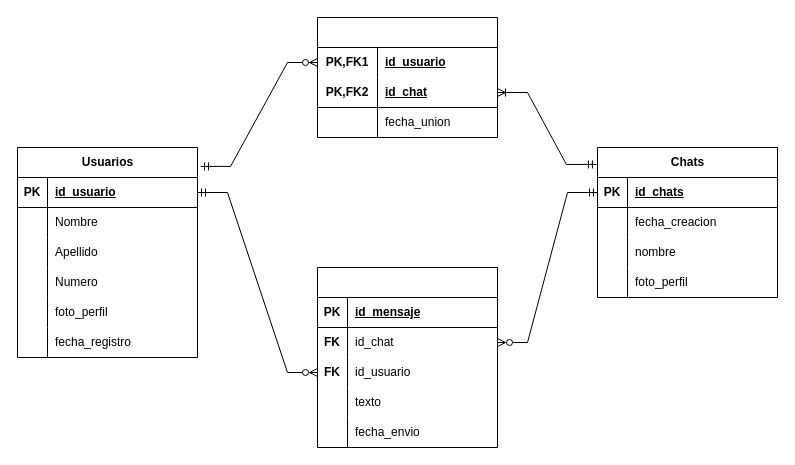
Some shapes in this 795 by 465 pixel diagram are drawn without their labels. Here are the shapes that lost their labels. From the top down, the box of each, then its label:
(316, 16, 498, 138): UsuariosxChats
(316, 266, 498, 448): Mensajes
